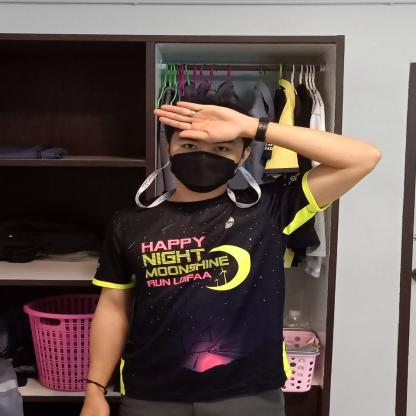Sick: (146, 96, 386, 218)
